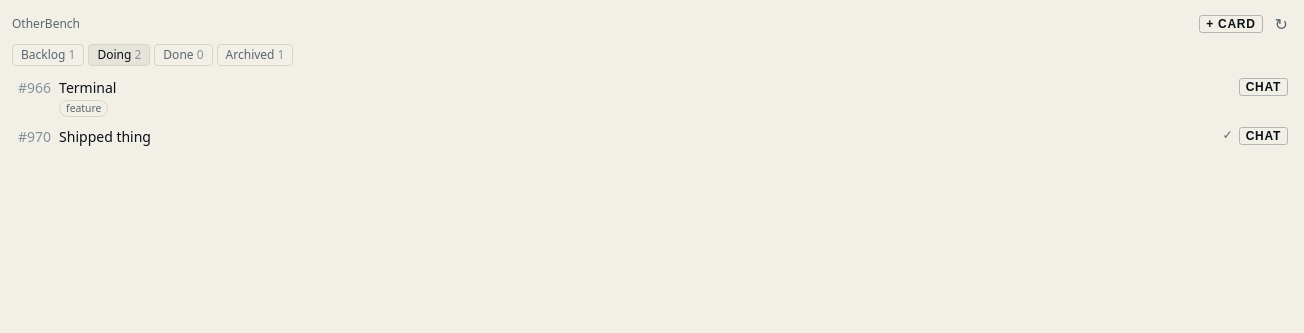
it: DeckTab › + Card creates in the shown column and opens it
Check: the button with test id "card-row-966" is shown, box [12,74,1239,121]
Click the button "+ Card". click: (1231, 24)
box: [1199,15,1263,33]
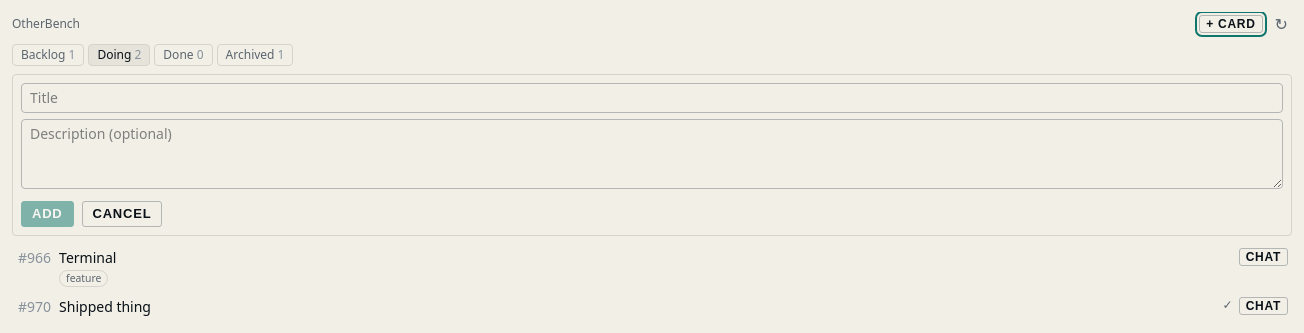
Check: the button "Add" is disabled, box [21,201,74,227]
Type "New one" into the field named "New card title". click: (652, 98)
box: [21,83,1283,113]
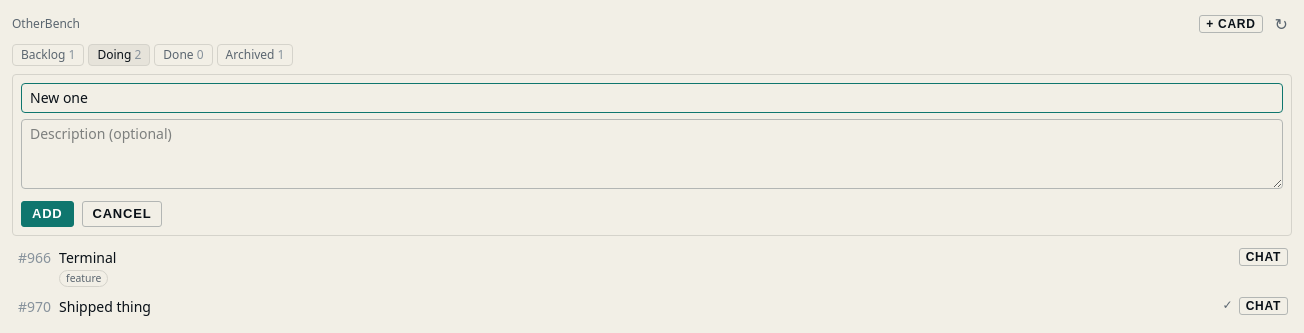
Type "Some detail" into the text box named "New card description". click: (652, 154)
box: [21,119,1283,189]
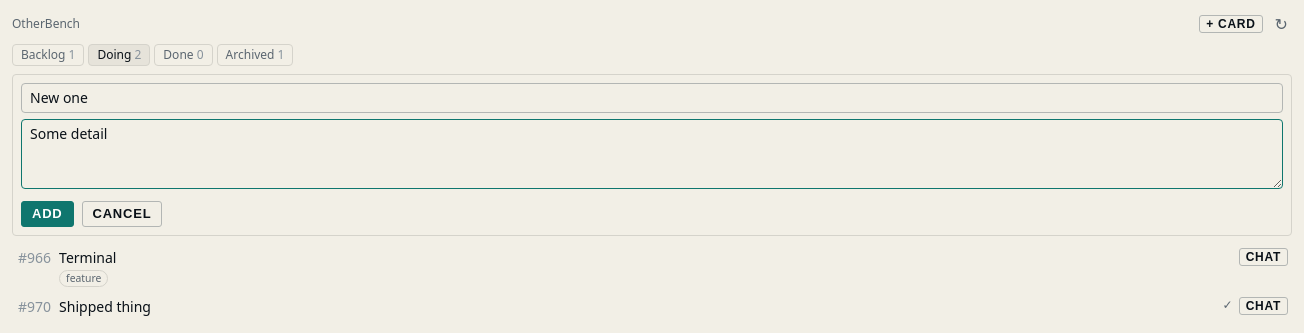
Click the button "Add". click: (47, 214)
box: [21,201,74,227]
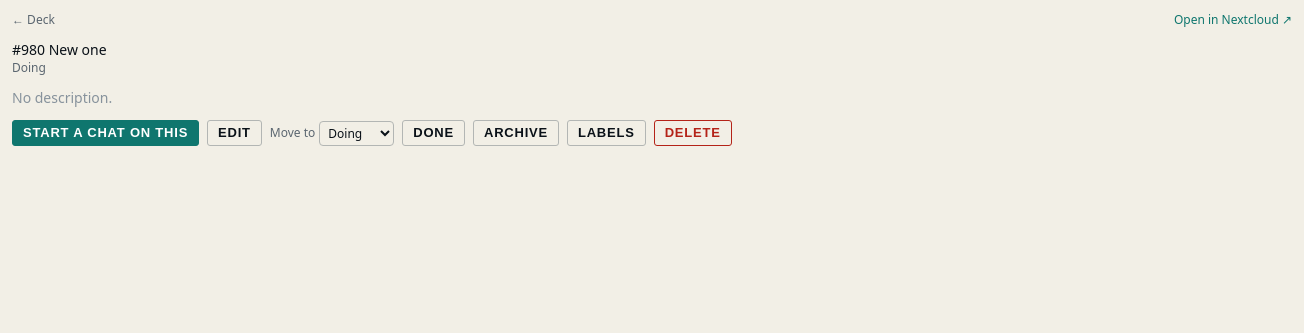
Check: the heading "#980 New one" is shown, box [12,40,107,59]
